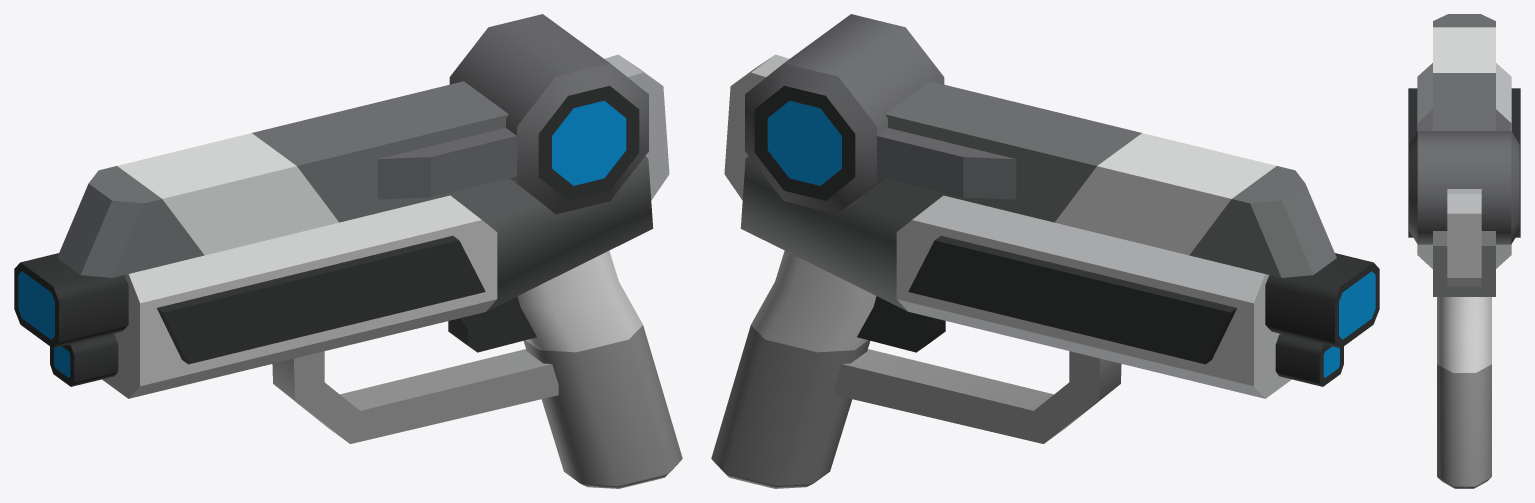
The model's file is Gun_004.fbx.
The picture shows the model from 3 angles, left to right: view 1: azimuth 30°, elevation 25°; view 2: azimuth 150°, elevation 25°; view 3: azimuth 270°, elevation 25°; orthographic projection. The views are drawn at different scales.
Visible parts, largest first — view 1: Gun_004; view 2: Gun_004; view 3: Gun_004.
Boxes of the visible parts, x1,y1,x2,y2 form: Gun_004: (14, 14, 682, 488); Gun_004: (711, 14, 1379, 488); Gun_004: (1408, 14, 1520, 488).
Bounding box in the file's own units: 40.29 × 8.85 × 26.84.
